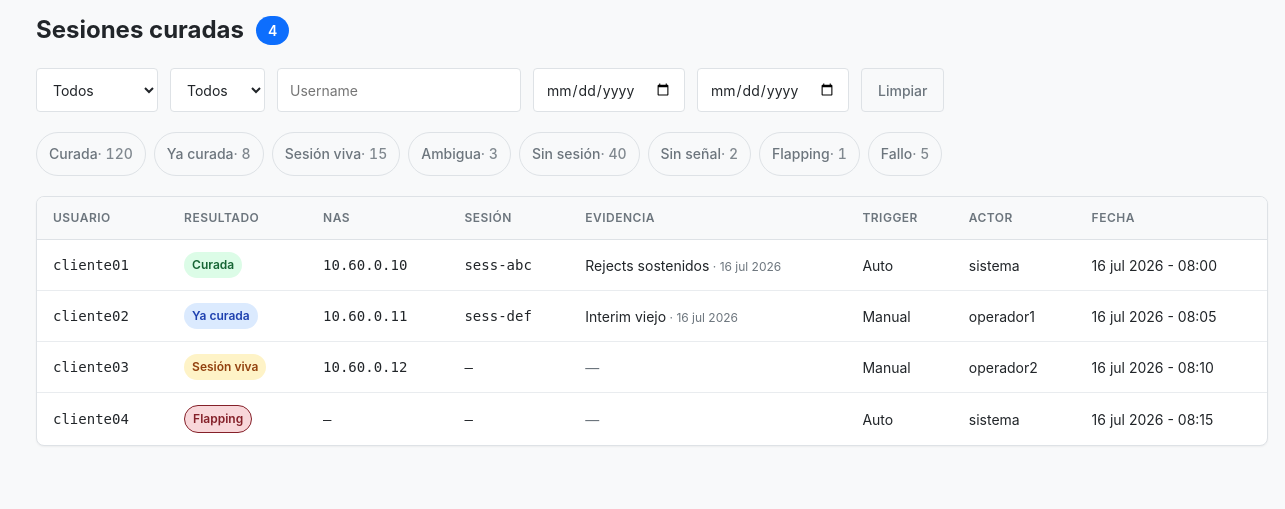
Scenario: RadiusSessionCuresPage — filtros en la URL › escribir un username filtra la query y escribe cure_username en la URL
Type "juan" into the field named "filtrar por username" at (399, 90), box [277,68,521,112]
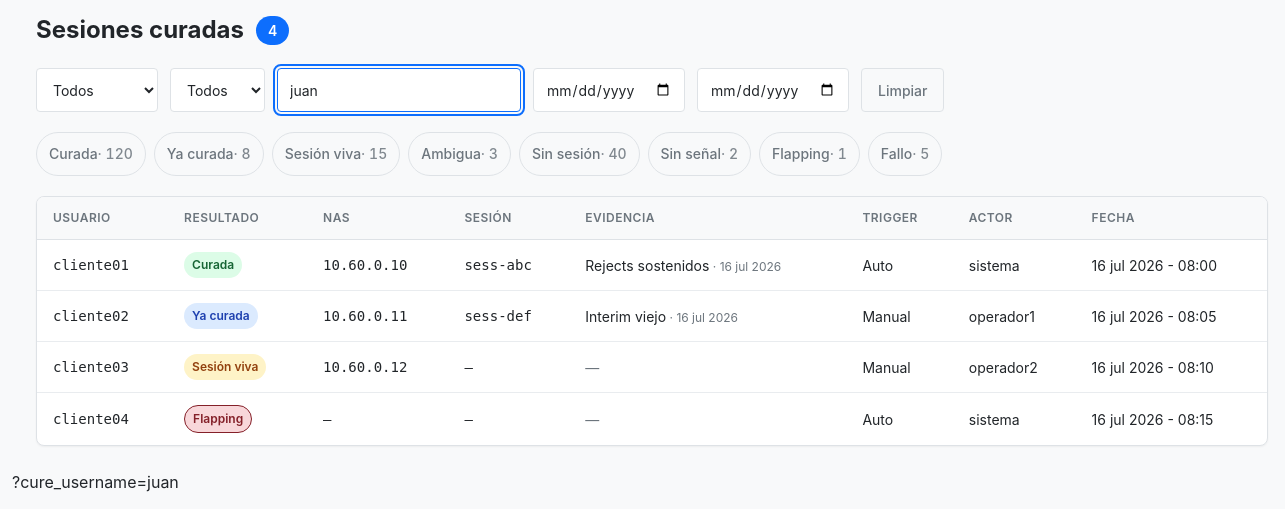
Expected: the text with test id "location-search" shows "cure_username=juan", [12,472,179,492]
